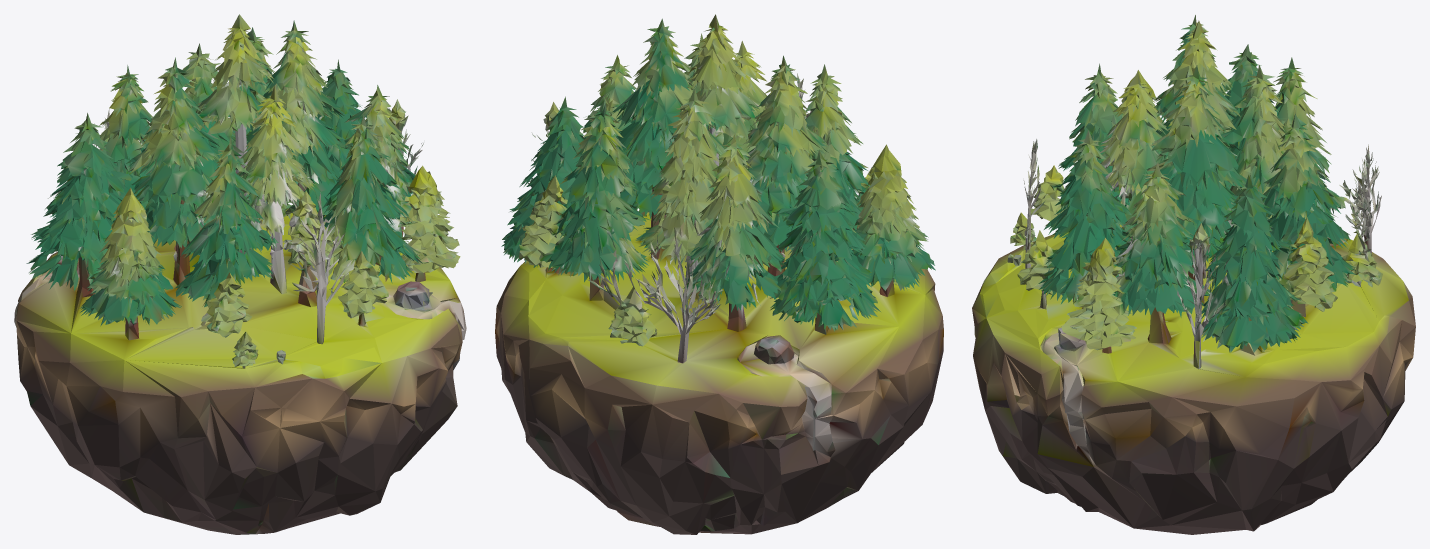
File: forest.glb
3 renders of one model, left to right at view 1: azimuth 30°, elevation 25°; view 2: azimuth 150°, elevation 25°; view 3: azimuth 270°, elevation 25°, orthographic.
Bounding box in the file's own units: 1.52 × 1.9 × 1.53.
